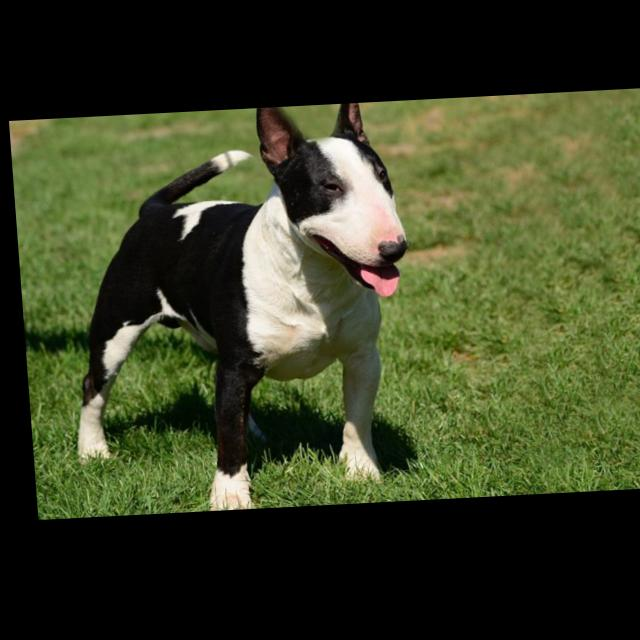bullterrier: (51, 106, 421, 519)
